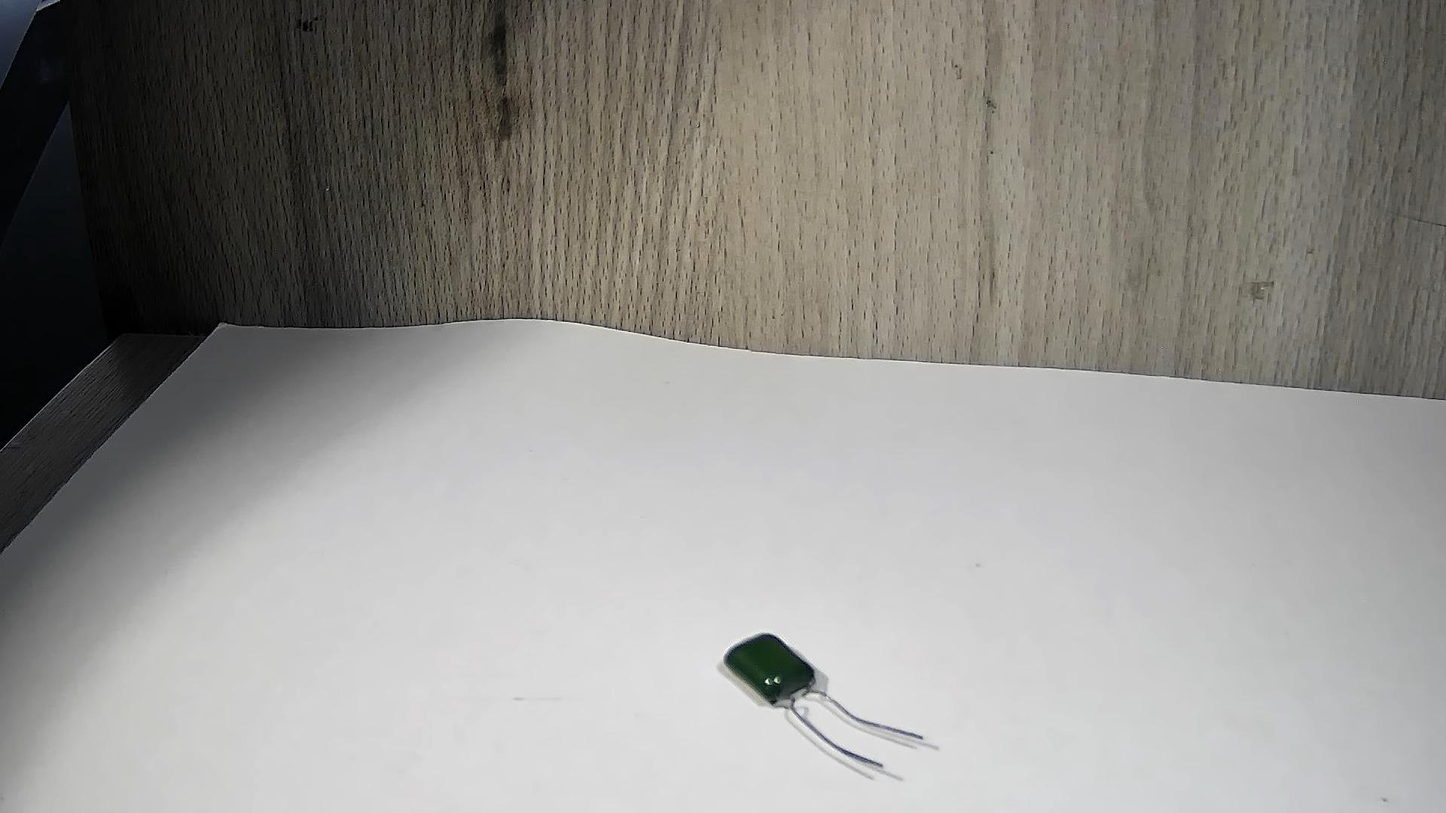capacitor ceramico: (688, 595, 1000, 813)
